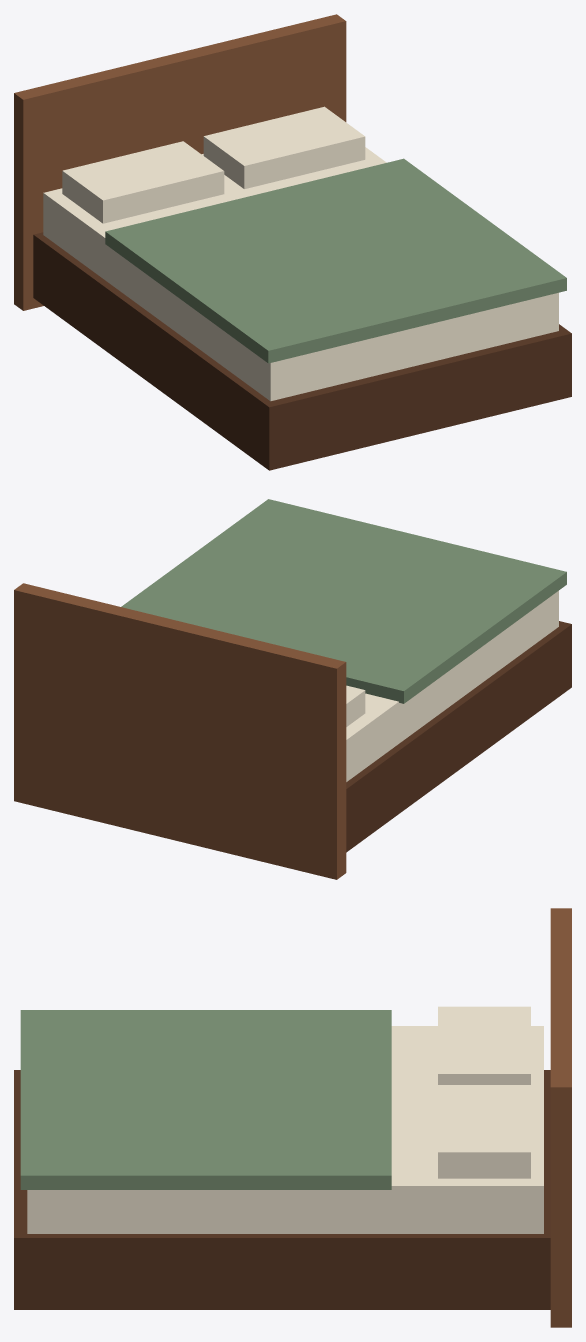
The model's file is parents_bed.glb.
3 renders of one model, top to bottom at view 1: azimuth 30°, elevation 25°; view 2: azimuth 150°, elevation 25°; view 3: azimuth 270°, elevation 25°, orthographic. The views are drawn at different scales.
Visible parts, largest first — view 1: Box3, Box1, Box6, Box2, Box4, Box5; view 2: Box6, Box3, Box1, Box2, Box4; view 3: Box3, Box1, Box2, Box6, Box5, Box4.
Part boxes in pixels (x1,y1,x2,y2): Box3: (105,158,566,363); Box1: (33,232,571,470); Box6: (14,14,346,310); Box2: (43,147,558,401); Box4: (62,141,224,223); Box5: (203,106,365,189); Box6: (14,583,346,879); Box3: (121,499,566,703); Box1: (346,621,571,852); Box2: (346,590,558,781); Box4: (346,685,365,726); Box3: (20,1010,391,1189); Box1: (14,1070,550,1309); Box2: (27,1026,543,1233); Box6: (550,908,571,1327); Box5: (438,1085,530,1178); Box4: (438,1006,530,1084).
Bounding box in the file's own units: 1.6 × 1 × 2.1.
